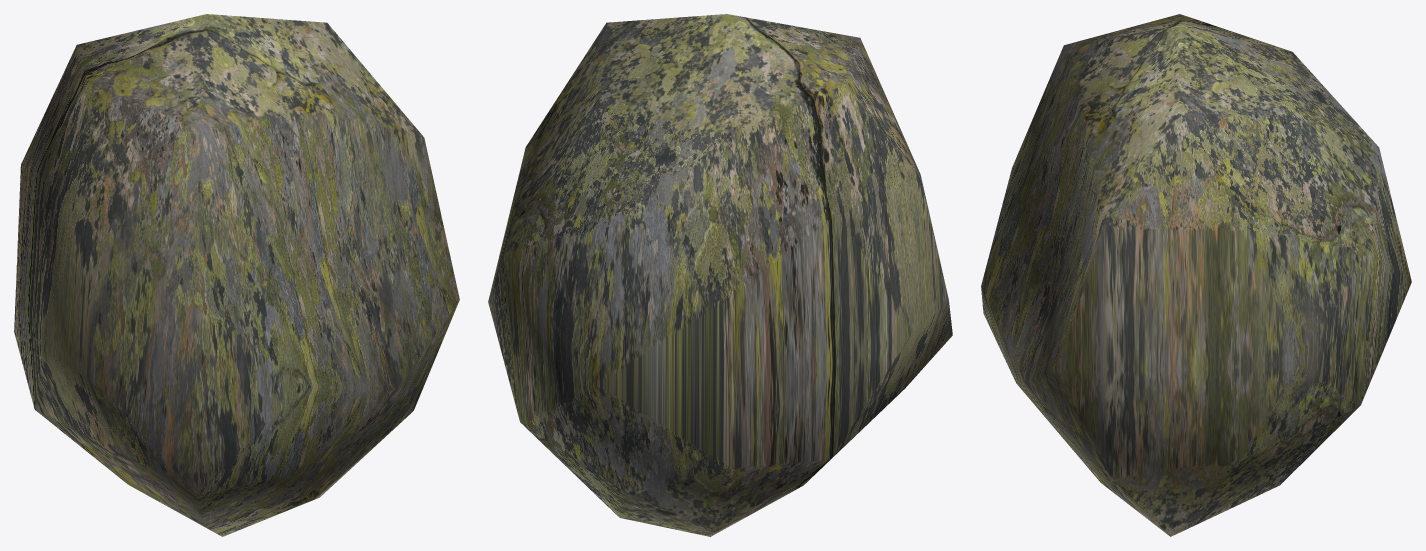
File: boulder_c_lod2.gltf
3 views of the same model, side by side, from view 1: azimuth 30°, elevation 25°; view 2: azimuth 150°, elevation 25°; view 3: azimuth 270°, elevation 25° (orthographic). The views are drawn at different scales.
Visible parts, largest first — view 1: boulder_c_LOD2; view 2: boulder_c_LOD2; view 3: boulder_c_LOD2.
Part boxes in pixels (box(x1,y1,x2,y2)): boulder_c_LOD2: box(14, 14, 459, 536); boulder_c_LOD2: box(488, 14, 952, 536); boulder_c_LOD2: box(981, 14, 1411, 536).
Bounding box in the file's own units: 1.63 × 2.28 × 1.86.
1 material, 1 textured.
